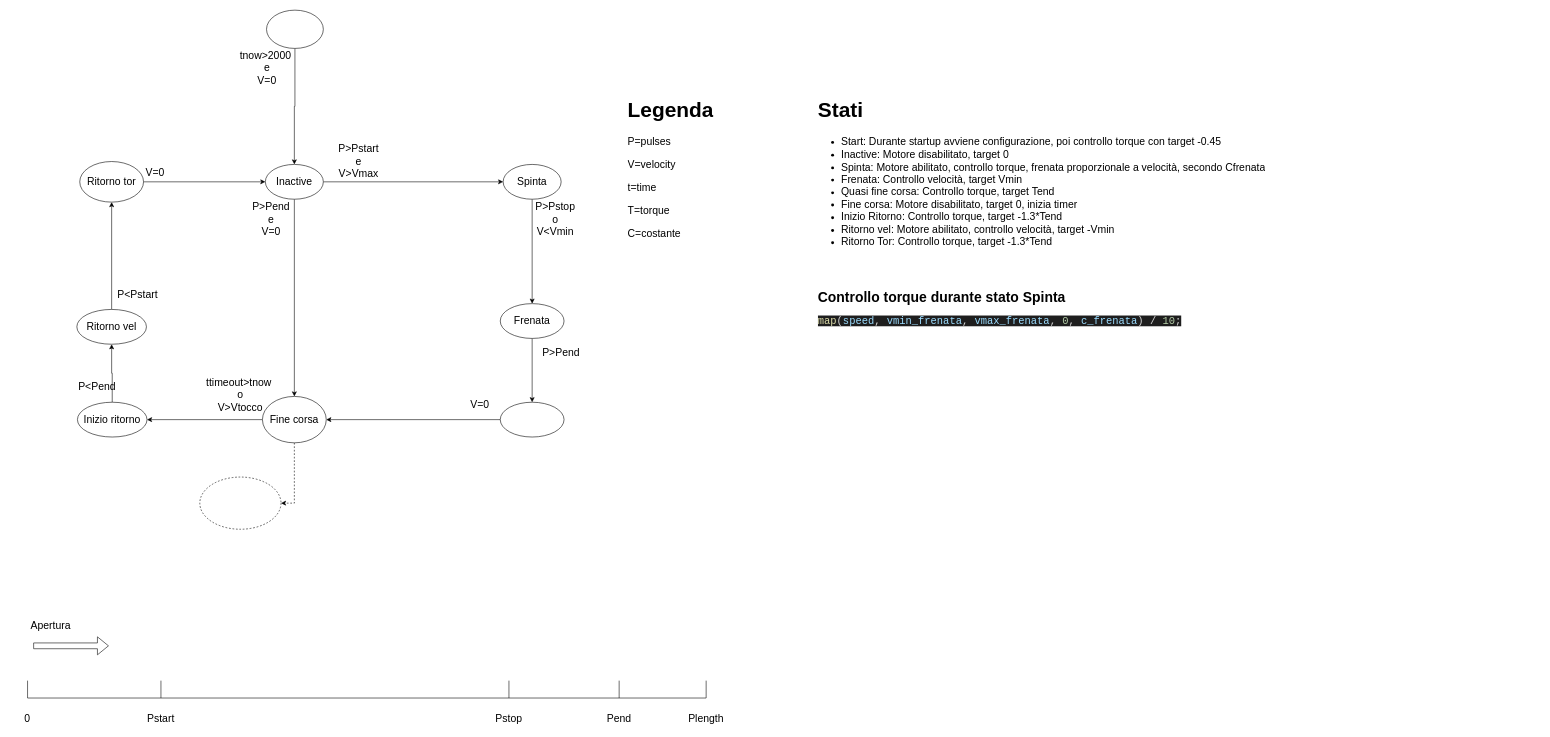
This 1550x737 diagram has some shape labels left out. Here are the shapes that lost their labels. From the top down, the centre of each, then its label:
(294,29): Start
(532,419): Quasi fine corsa
(240,502): Spinta "forte" chiusura
